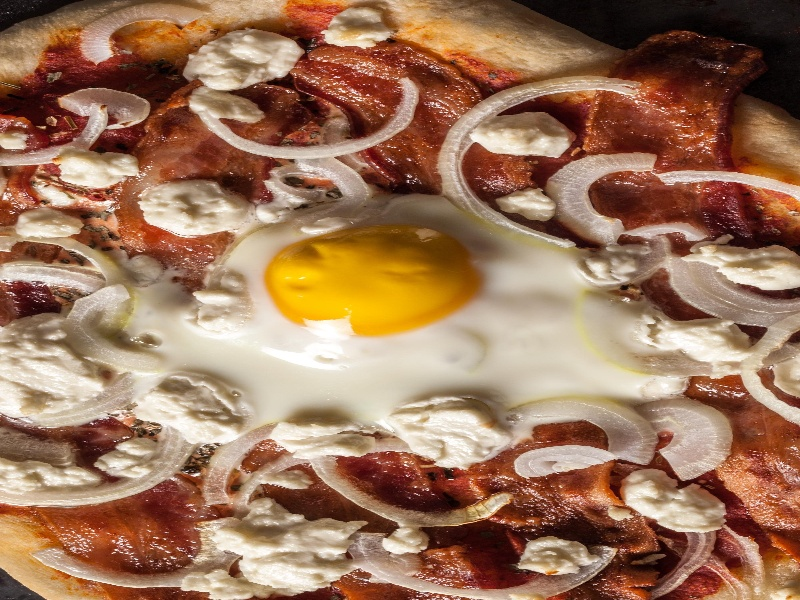oeuf: (243, 217, 535, 366)
